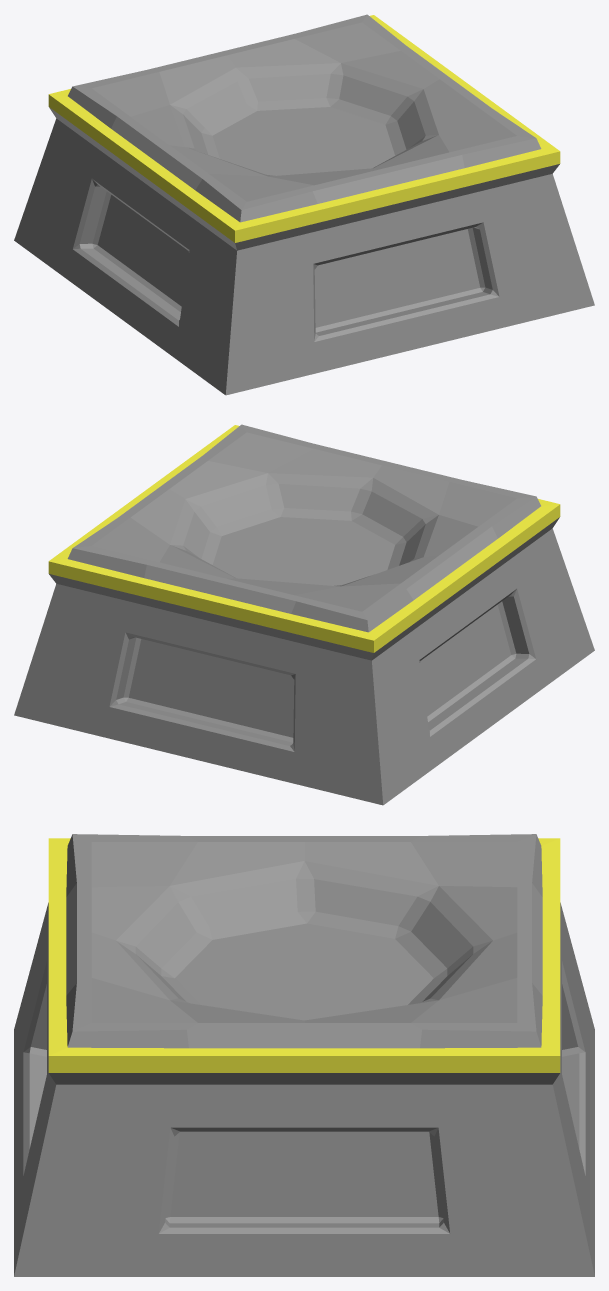
Rendered from ShopBottom.fbx.
3 renders of one model, top to bottom at view 1: azimuth 30°, elevation 25°; view 2: azimuth 150°, elevation 25°; view 3: azimuth 270°, elevation 25°, orthographic. The views are drawn at different scales.
Parts seen in each view (by area): view 1: Fence; view 2: Fence; view 3: Fence.
Boxes of the visible parts, <box> form: Fence: <box>14,14,594,395</box>; Fence: <box>14,424,594,805</box>; Fence: <box>14,834,594,1276</box>.
Bounding box in the file's own units: 2 × 1.99 × 0.8325.
